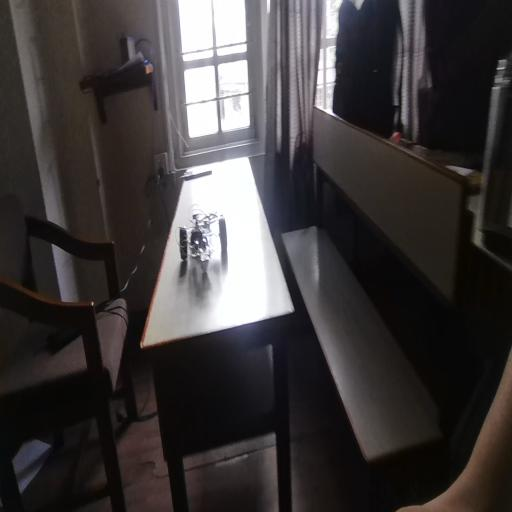car: (178, 183, 238, 284)
